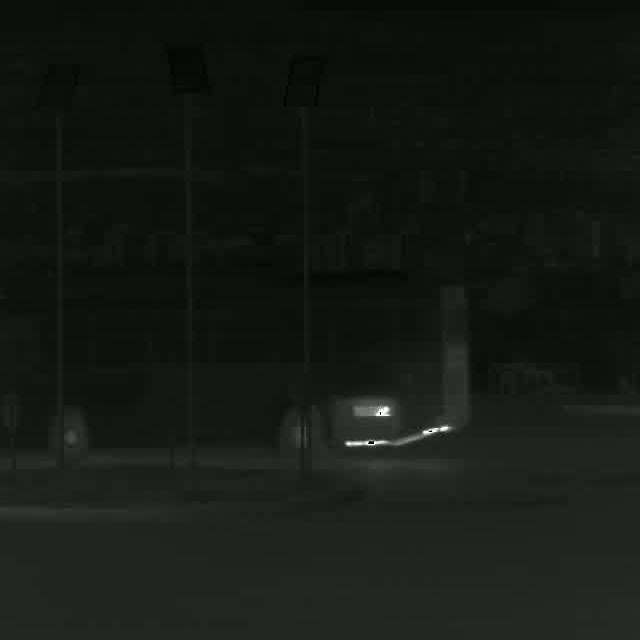Bus: (0, 268, 468, 468)
